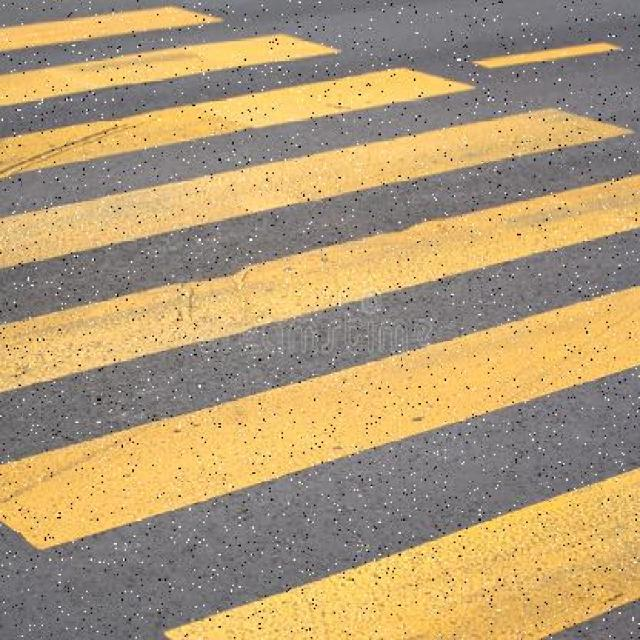intact_crosswalk: (0, 4, 640, 639)
